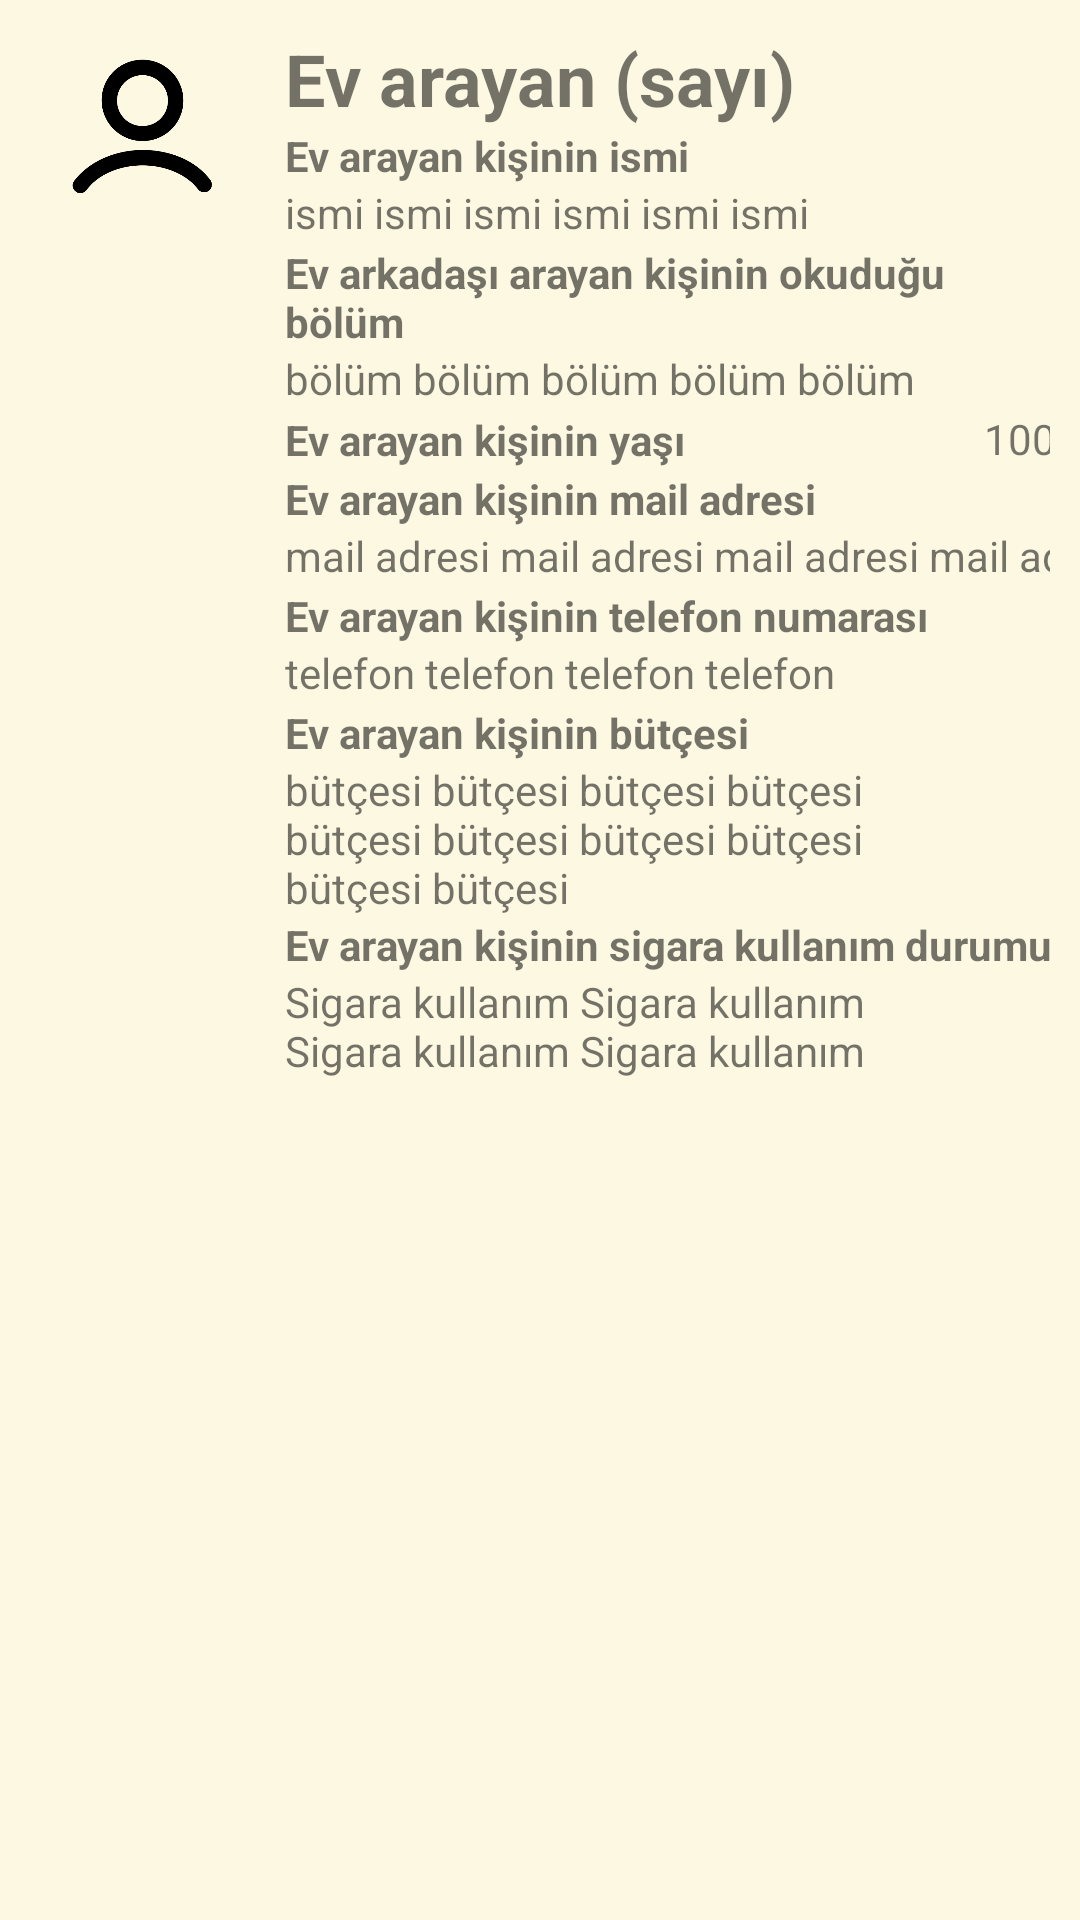

Where icons sit on this 1080*1920 app screen, as (x1, y1, x2, y2):
person: (72, 59, 212, 193)
